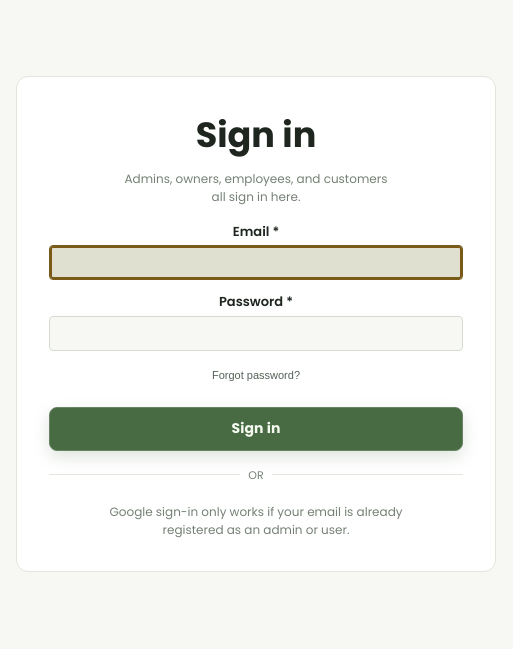
Test: LoginPage workspace intent › does not label a network error as invalid credentials
The image size is (513, 649).
Step 1. Type "admin@example.com" into the field labelled "Email *" → (256, 262), box [49,245,463,280]
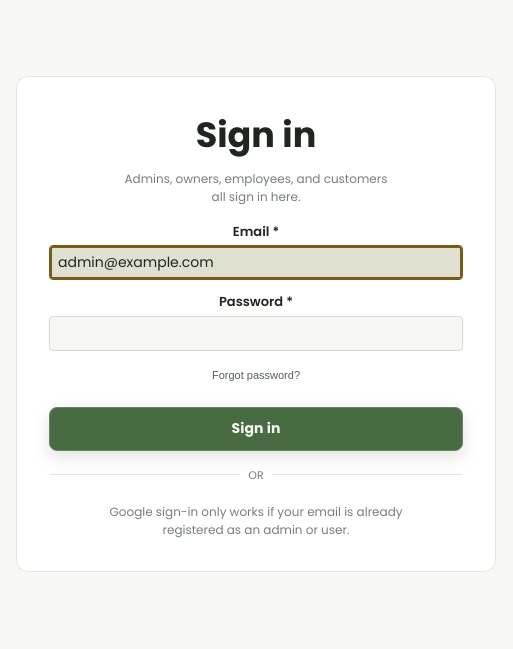
Step 2. Type "secret" into the password field labelled "Password *" → (256, 333), box [49,316,463,350]
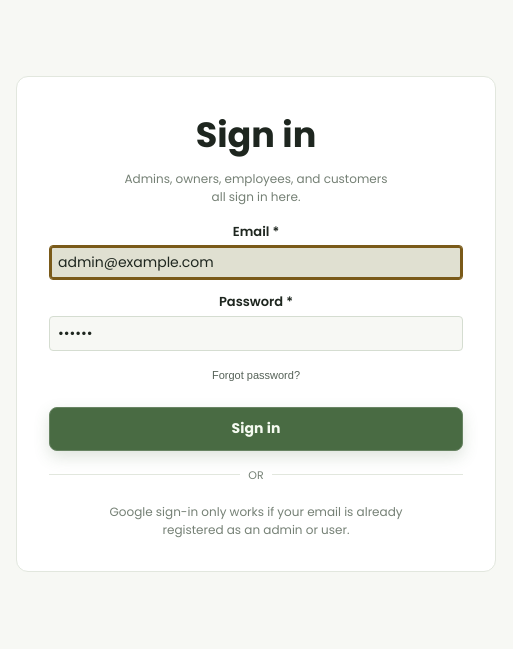
Step 3. Click the button "Sign in" → click(256, 428), box [49,406,463,450]
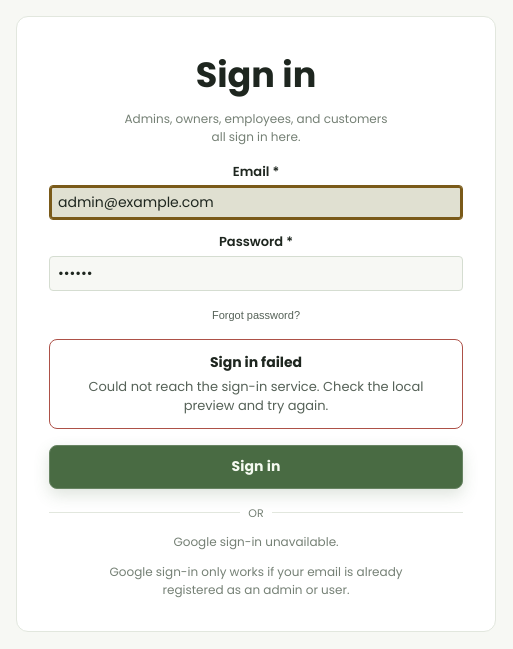
Expected: the text "Could not reach the sign-in service" is shown, [88,376,424,415]
